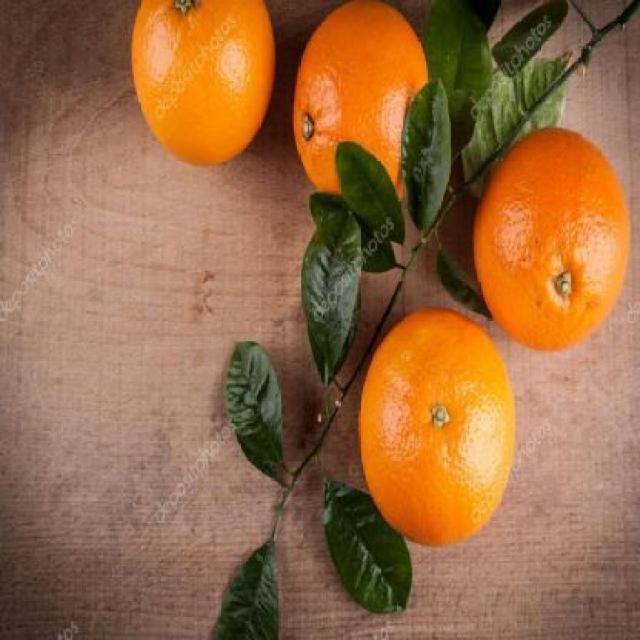Jeruk Sudah Matang: (358, 303, 516, 551), (476, 130, 630, 356), (294, 0, 431, 214), (132, 1, 277, 164)
